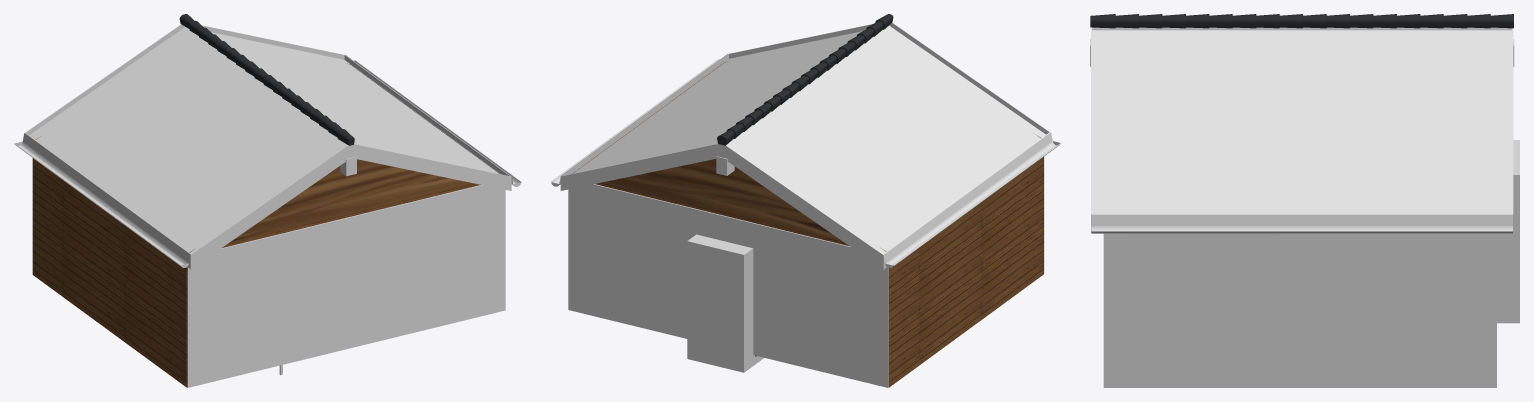
The model's file is 1stroomtexture2.fbx.
3 views of the same model, side by side, from view 1: azimuth 30°, elevation 25°; view 2: azimuth 150°, elevation 25°; view 3: azimuth 270°, elevation 25° (orthographic). The views are drawn at different scales.
Visible parts, largest first — view 1: Roof, Wall.003, Outter Wall, Outter Wall.001; view 2: Roof, Wall.003, Outter Wall, Cube.001, Outter Wall.002; view 3: Roof, Wall.003, Cube.001.
Boxes of the visible parts, x1=… form: Roof: x1=14, y1=14, x2=521, y2=269; Wall.003: x1=187, y1=185, x2=505, y2=387; Outter Wall: x1=32, y1=64, x2=499, y2=387; Outter Wall.001: x1=189, y1=159, x2=474, y2=252; Roof: x1=550, y1=14, x2=1061, y2=269; Wall.003: x1=568, y1=156, x2=1044, y2=387; Outter Wall: x1=572, y1=62, x2=1043, y2=387; Cube.001: x1=687, y1=234, x2=763, y2=372; Outter Wall.002: x1=600, y1=159, x2=886, y2=251; Roof: x1=1090, y1=14, x2=1514, y2=233; Wall.003: x1=1103, y1=233, x2=1496, y2=387; Cube.001: x1=1497, y1=140, x2=1519, y2=323.
Bounding box in the file's own units: 746 × 501 × 642.
22 materials, 10 textured.
